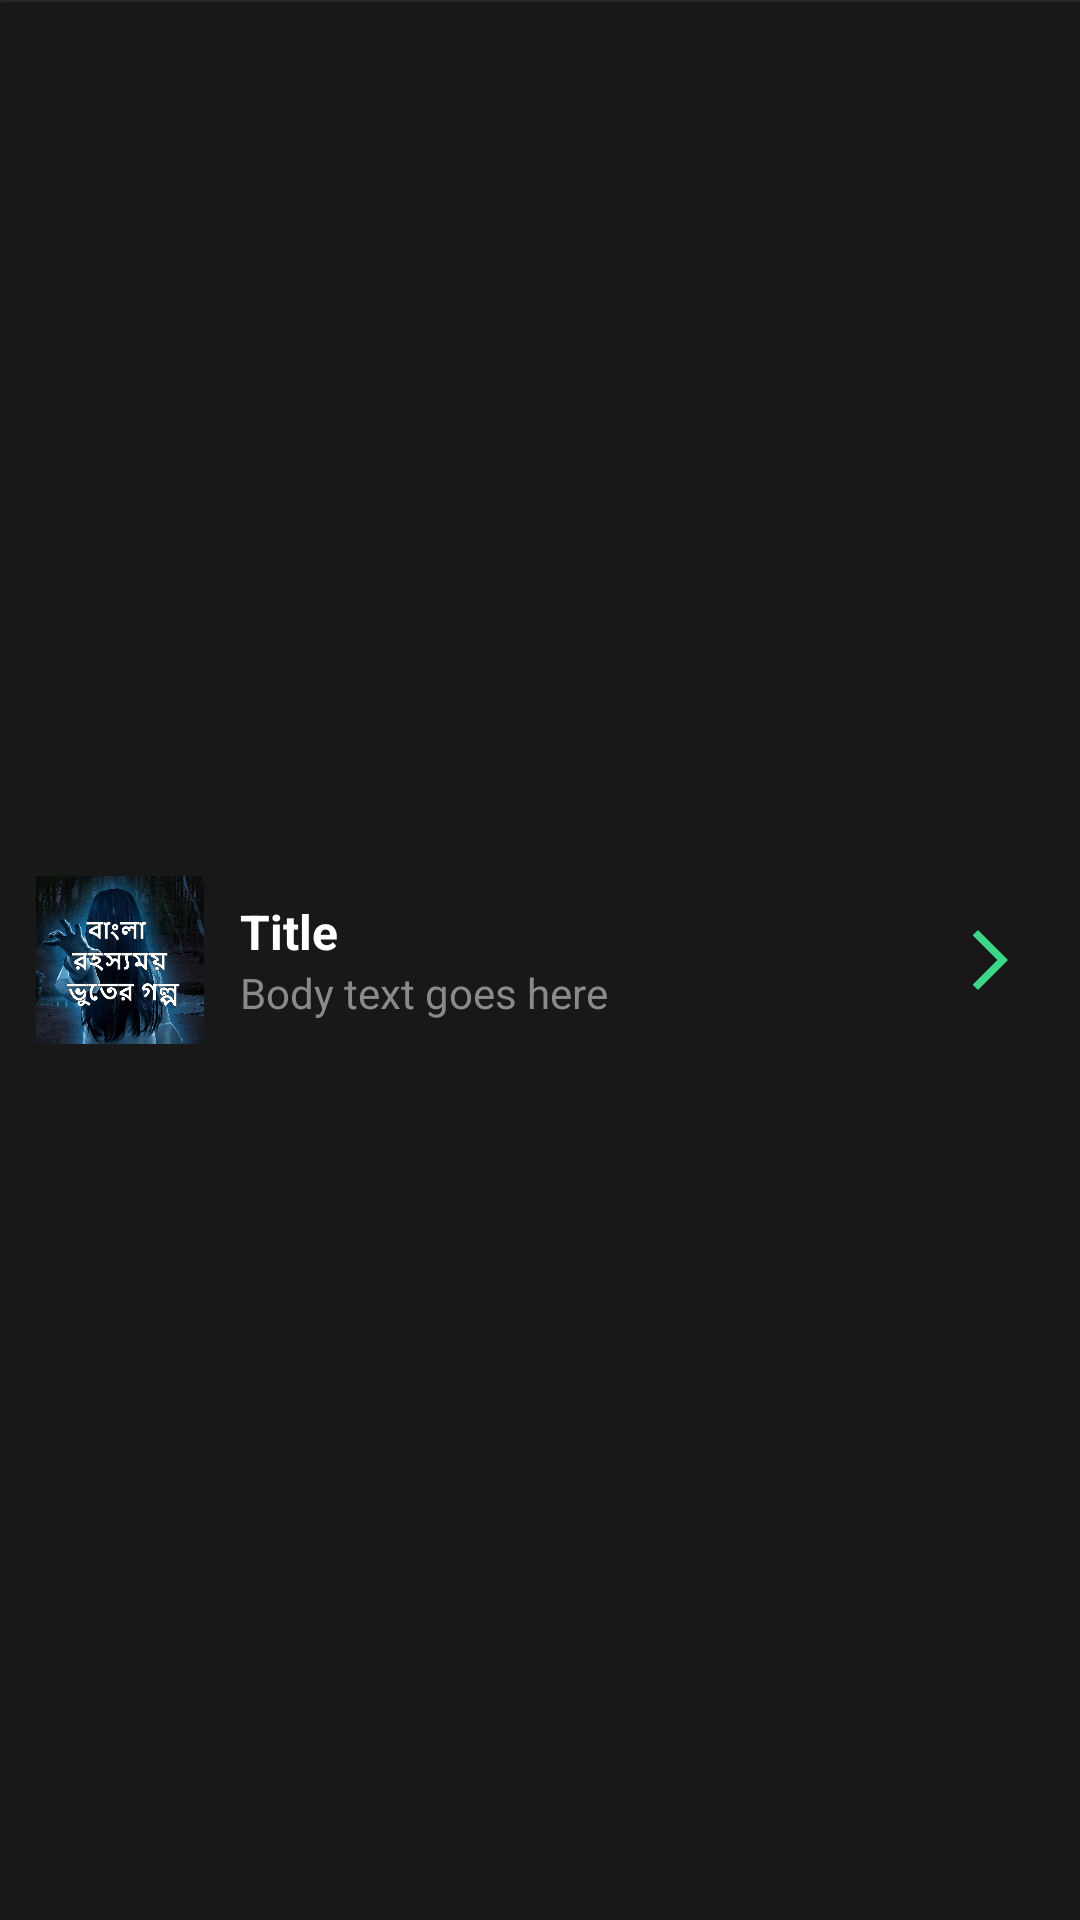

Named icons in this screenshot (1080 × 1920) and their centers, (x=x, y=y):
app: (x=120, y=960)
